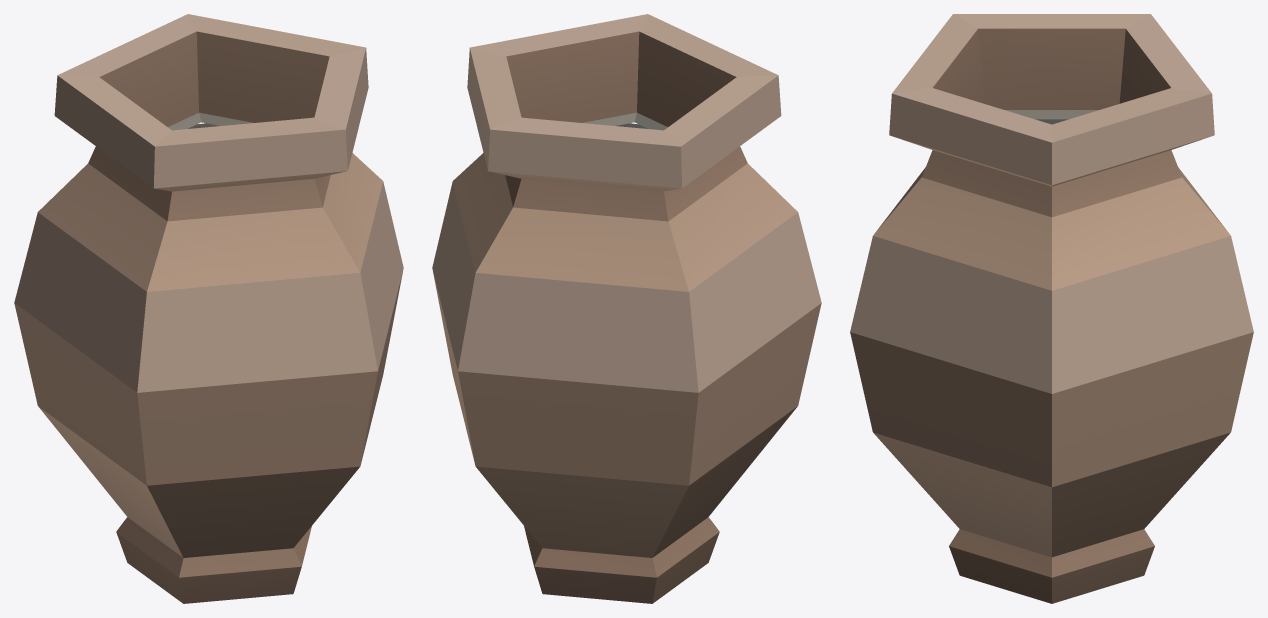
File: pot.lod2.glb
3 renders of one model, left to right at view 1: azimuth 30°, elevation 25°; view 2: azimuth 150°, elevation 25°; view 3: azimuth 270°, elevation 25°, orthographic.
Size of the model in its own units: 0.673 by 0.95 by 0.7076.
